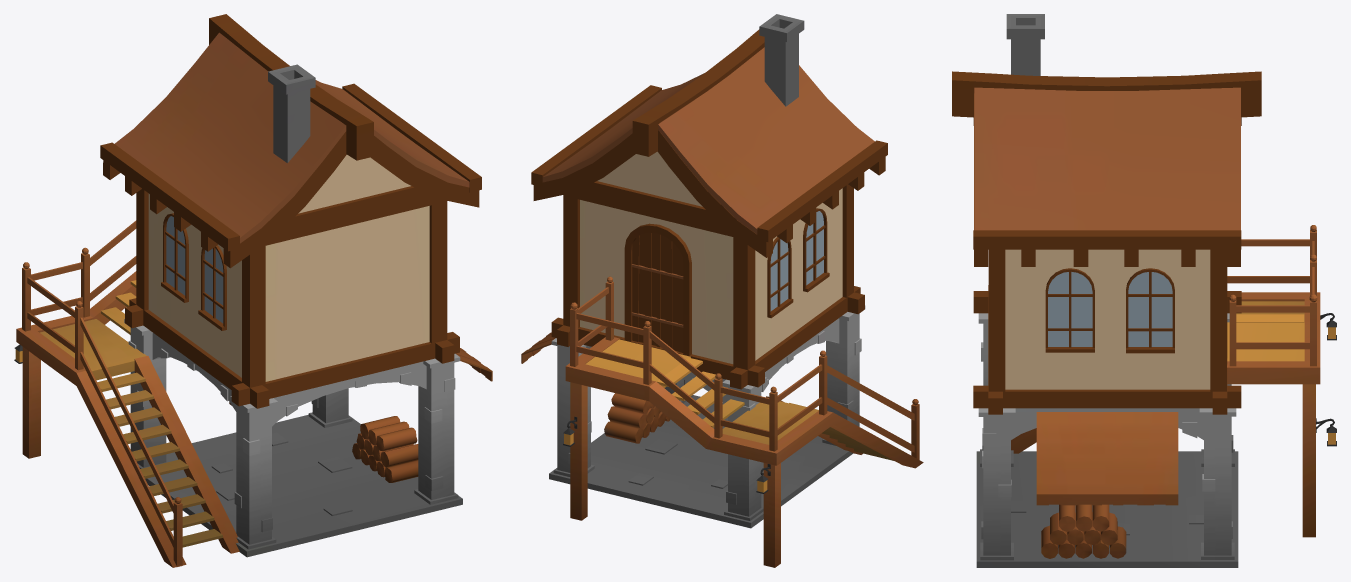
The model's file is sawmill.glb.
The picture shows the model from 3 angles, left to right: view 1: azimuth 30°, elevation 25°; view 2: azimuth 150°, elevation 25°; view 3: azimuth 270°, elevation 25°; orthographic projection. The views are drawn at different scales.
Visible parts, largest first — view 1: sawMill; view 2: sawMill; view 3: sawMill.
Part boxes in pixels (x1,y1,x2,y2): sawMill: (14, 14, 492, 567); sawMill: (521, 14, 923, 567); sawMill: (952, 14, 1336, 567).
Size of the model in its own units: 9.18 by 11.54 by 8.55.
Materials: 1 (1 with a texture image).
